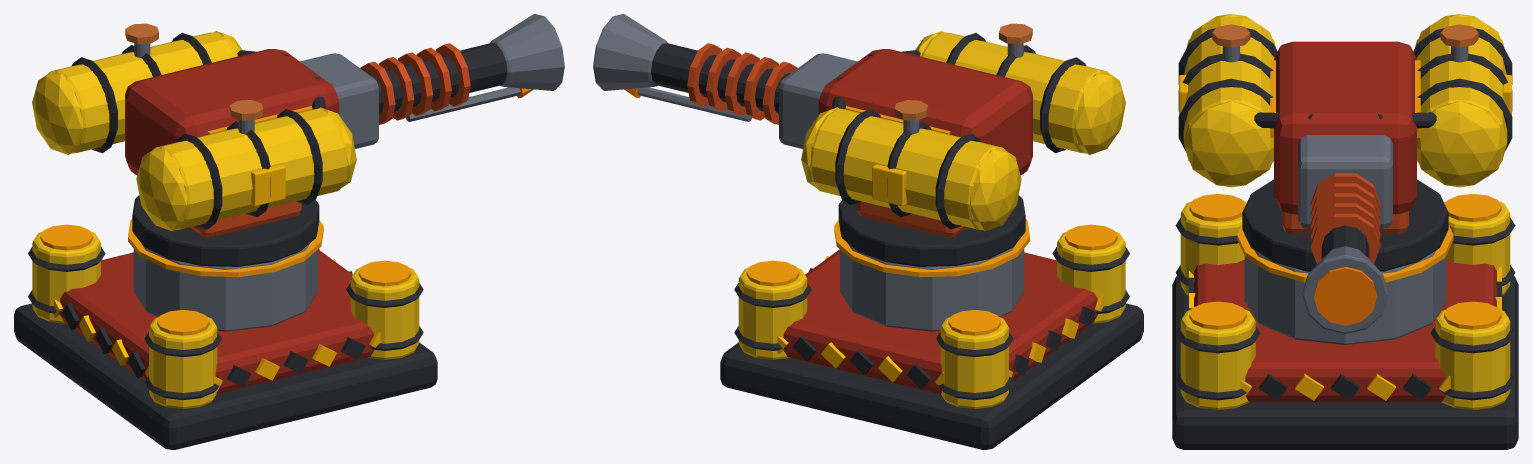
Rendered from torreta_lanzallamas.glb.
3 renders of one model, left to right at view 1: azimuth 30°, elevation 25°; view 2: azimuth 150°, elevation 25°; view 3: azimuth 270°, elevation 25°, orthographic. The views are drawn at different scales.
Parts seen in each view (by area): view 1: Base, Pivot, Barrel; view 2: Base, Pivot, Barrel; view 3: Base, Pivot, Barrel.
Boxes of the visible parts, x1,y1,x2,y2 form: Base: [14, 219, 437, 449]; Pivot: [32, 23, 356, 266]; Barrel: [300, 14, 564, 148]; Base: [720, 219, 1143, 449]; Pivot: [801, 23, 1125, 266]; Barrel: [593, 14, 857, 148]; Base: [1172, 194, 1518, 449]; Pivot: [1178, 14, 1512, 271]; Barrel: [1298, 135, 1392, 334].
Size of the model in its own units: 4.03 by 2.54 by 2.4.
1 material, 1 textured.
